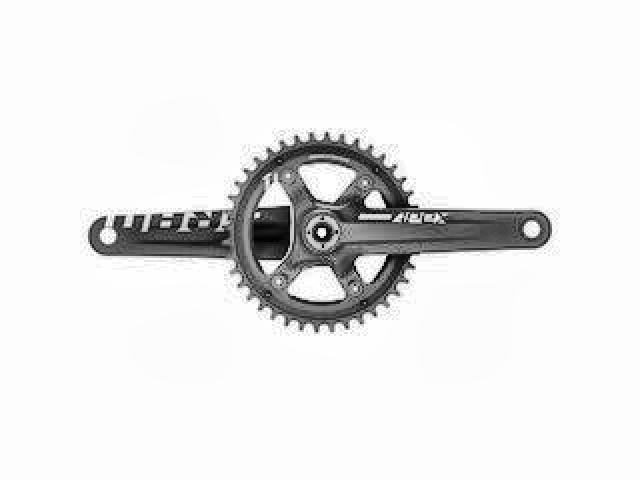cranks_set: (222, 130, 554, 336)
